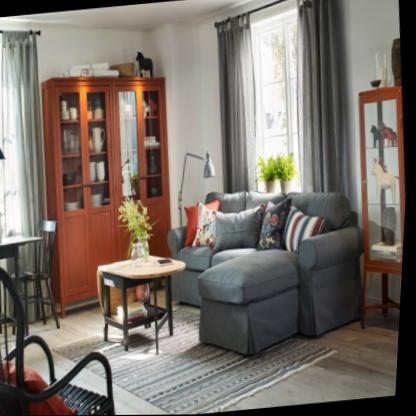Sofa: (159, 177, 379, 365)
Table: (94, 243, 197, 356)
